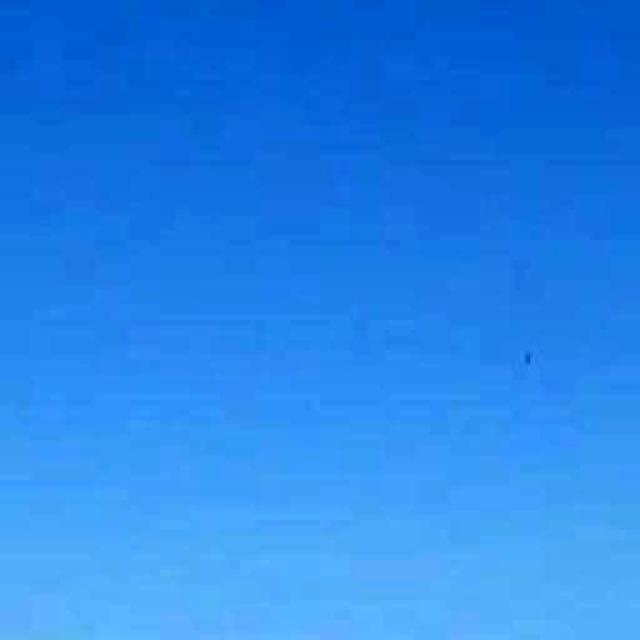drone: (506, 316, 552, 398)
